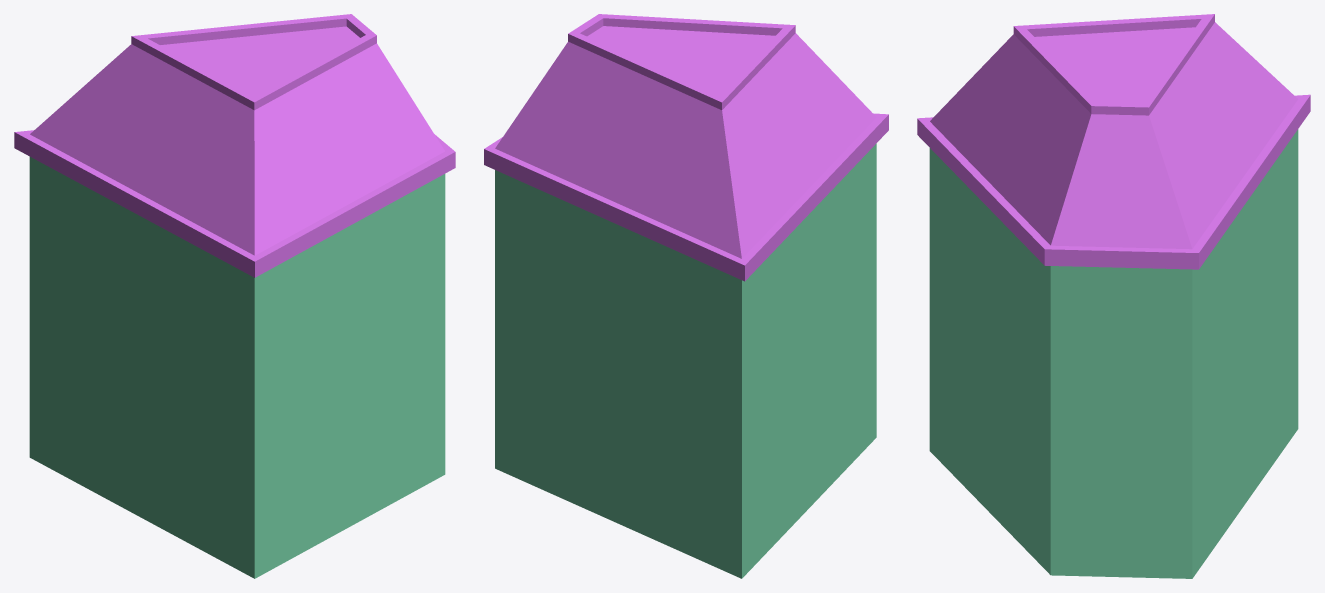
The model's file is Batiment18.fbx.
The picture shows the model from 3 angles, left to right: view 1: azimuth 30°, elevation 25°; view 2: azimuth 150°, elevation 25°; view 3: azimuth 270°, elevation 25°; orthographic projection. The views are drawn at different scales.
Visible parts, largest first — view 1: Batiment18; view 2: Batiment18; view 3: Batiment18.
Boxes of the visible parts, x1,y1,x2,y2 form: Batiment18: (14,14,455,578); Batiment18: (484,14,888,578); Batiment18: (917,14,1310,578).
Bounding box in the file's own units: 25.21 × 33.03 × 26.46.
